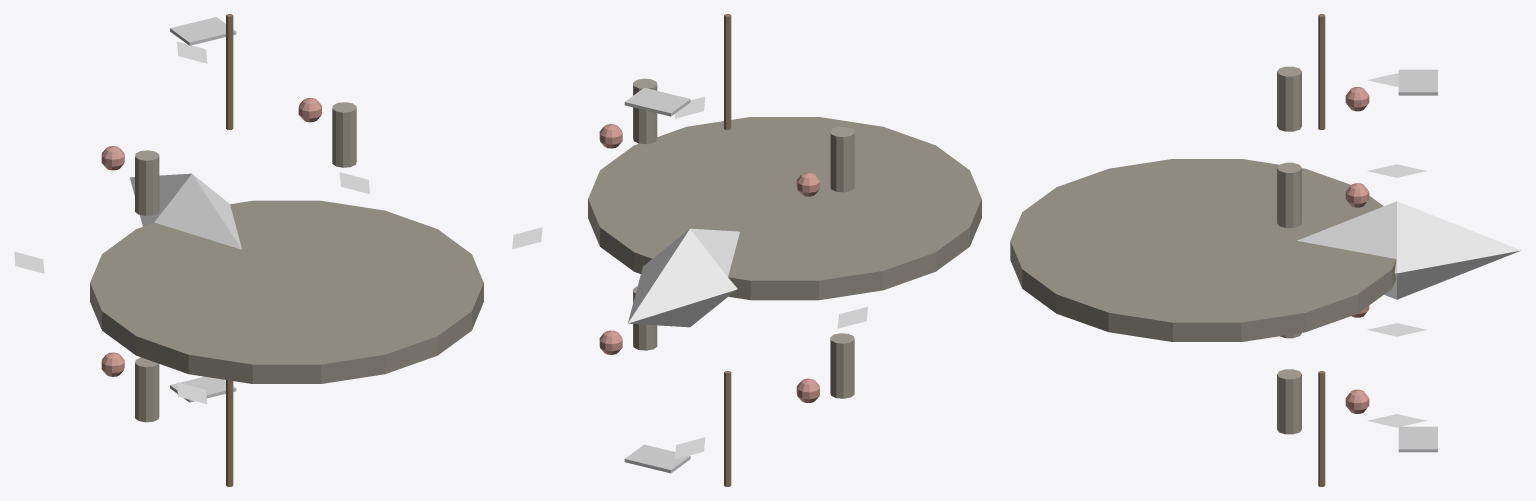
Rendered from crystal_red.fbx.
The picture shows the model from 3 angles, left to right: view 1: azimuth 30°, elevation 25°; view 2: azimuth 150°, elevation 25°; view 3: azimuth 270°, elevation 25°; orthographic projection.
Visible parts, largest first — view 1: Base, Crystal, Flag0, Flag1; view 2: Base, Crystal, Flag0, Flag1; view 3: Base, Crystal, Flag0, Flag1.
Boxes of the visible parts, <box> form: Base: <box>90,14,483,486</box>; Crystal: <box>130,173,241,249</box>; Flag0: <box>170,17,236,45</box>; Flag1: <box>170,376,236,402</box>; Base: <box>588,14,981,486</box>; Crystal: <box>628,228,739,327</box>; Flag0: <box>624,87,690,116</box>; Flag1: <box>624,444,690,473</box>; Base: <box>1010,14,1396,486</box>; Crystal: <box>1297,201,1521,299</box>; Flag0: <box>1398,69,1437,95</box>; Flag1: <box>1398,426,1437,452</box>.
Size of the model in its own units: 228 by 290 by 286.
